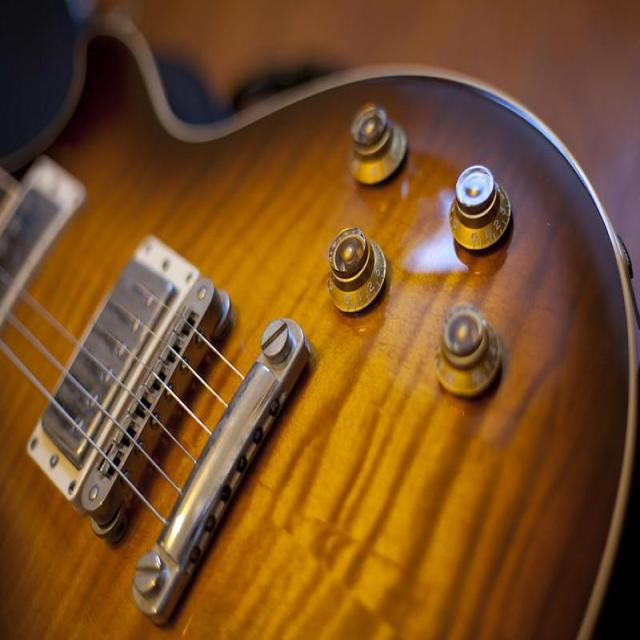guitar: (0, 22, 637, 637)
